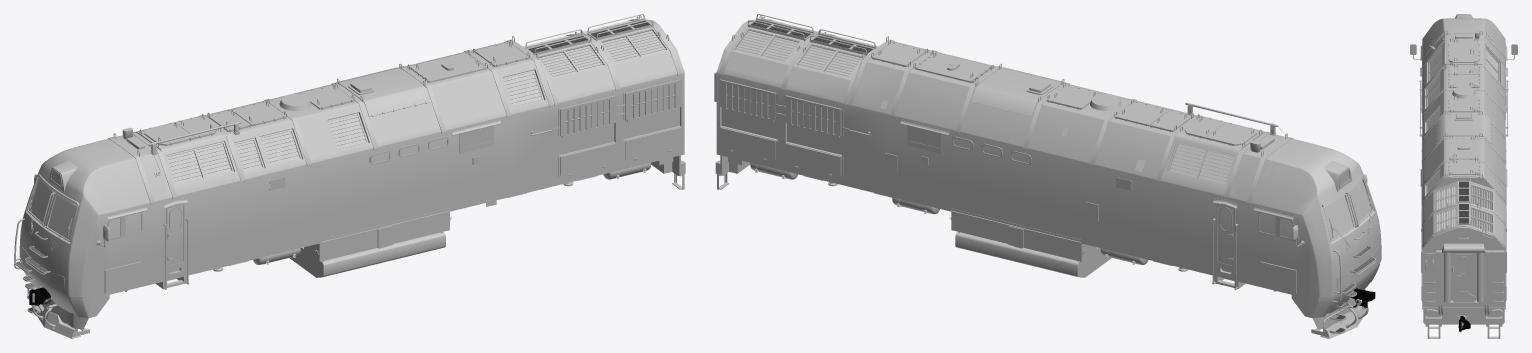
Rendered from DM_LocomotiveWagon.fbx.
3 renders of one model, left to right at view 1: azimuth 30°, elevation 25°; view 2: azimuth 150°, elevation 25°; view 3: azimuth 270°, elevation 25°, orthographic. The views are drawn at different scales.
Parts seen in each view (by area): view 1: DM_Locomotive; view 2: DM_Locomotive; view 3: DM_Locomotive.
Boxes of the visible parts, x1,y1,x2,y2 form: DM_Locomotive: (14,14,685,338); DM_Locomotive: (714,14,1381,338); DM_Locomotive: (1410,14,1517,338).
Bounding box in the file's own units: 2033 × 513 × 400.
